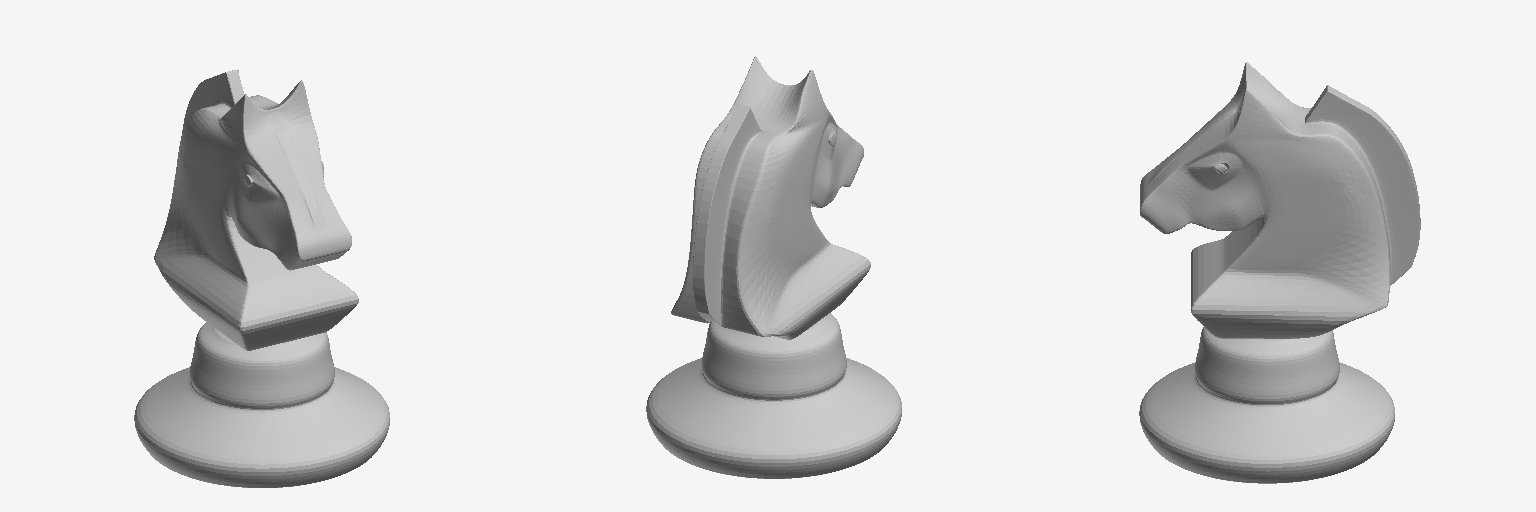
Rendered from knight.obj.
3 views of the same model, side by side, from view 1: azimuth 30°, elevation 25°; view 2: azimuth 150°, elevation 25°; view 3: azimuth 270°, elevation 25° (orthographic).
Visible parts, largest first — view 1: Knight; view 2: Knight; view 3: Knight.
Part boxes in pixels (x1,y1,x2,y2): Knight: (134, 69, 389, 487); Knight: (646, 56, 901, 478); Knight: (1139, 62, 1420, 483).
Bounding box in the file's own units: 1.37 × 2.14 × 1.5.